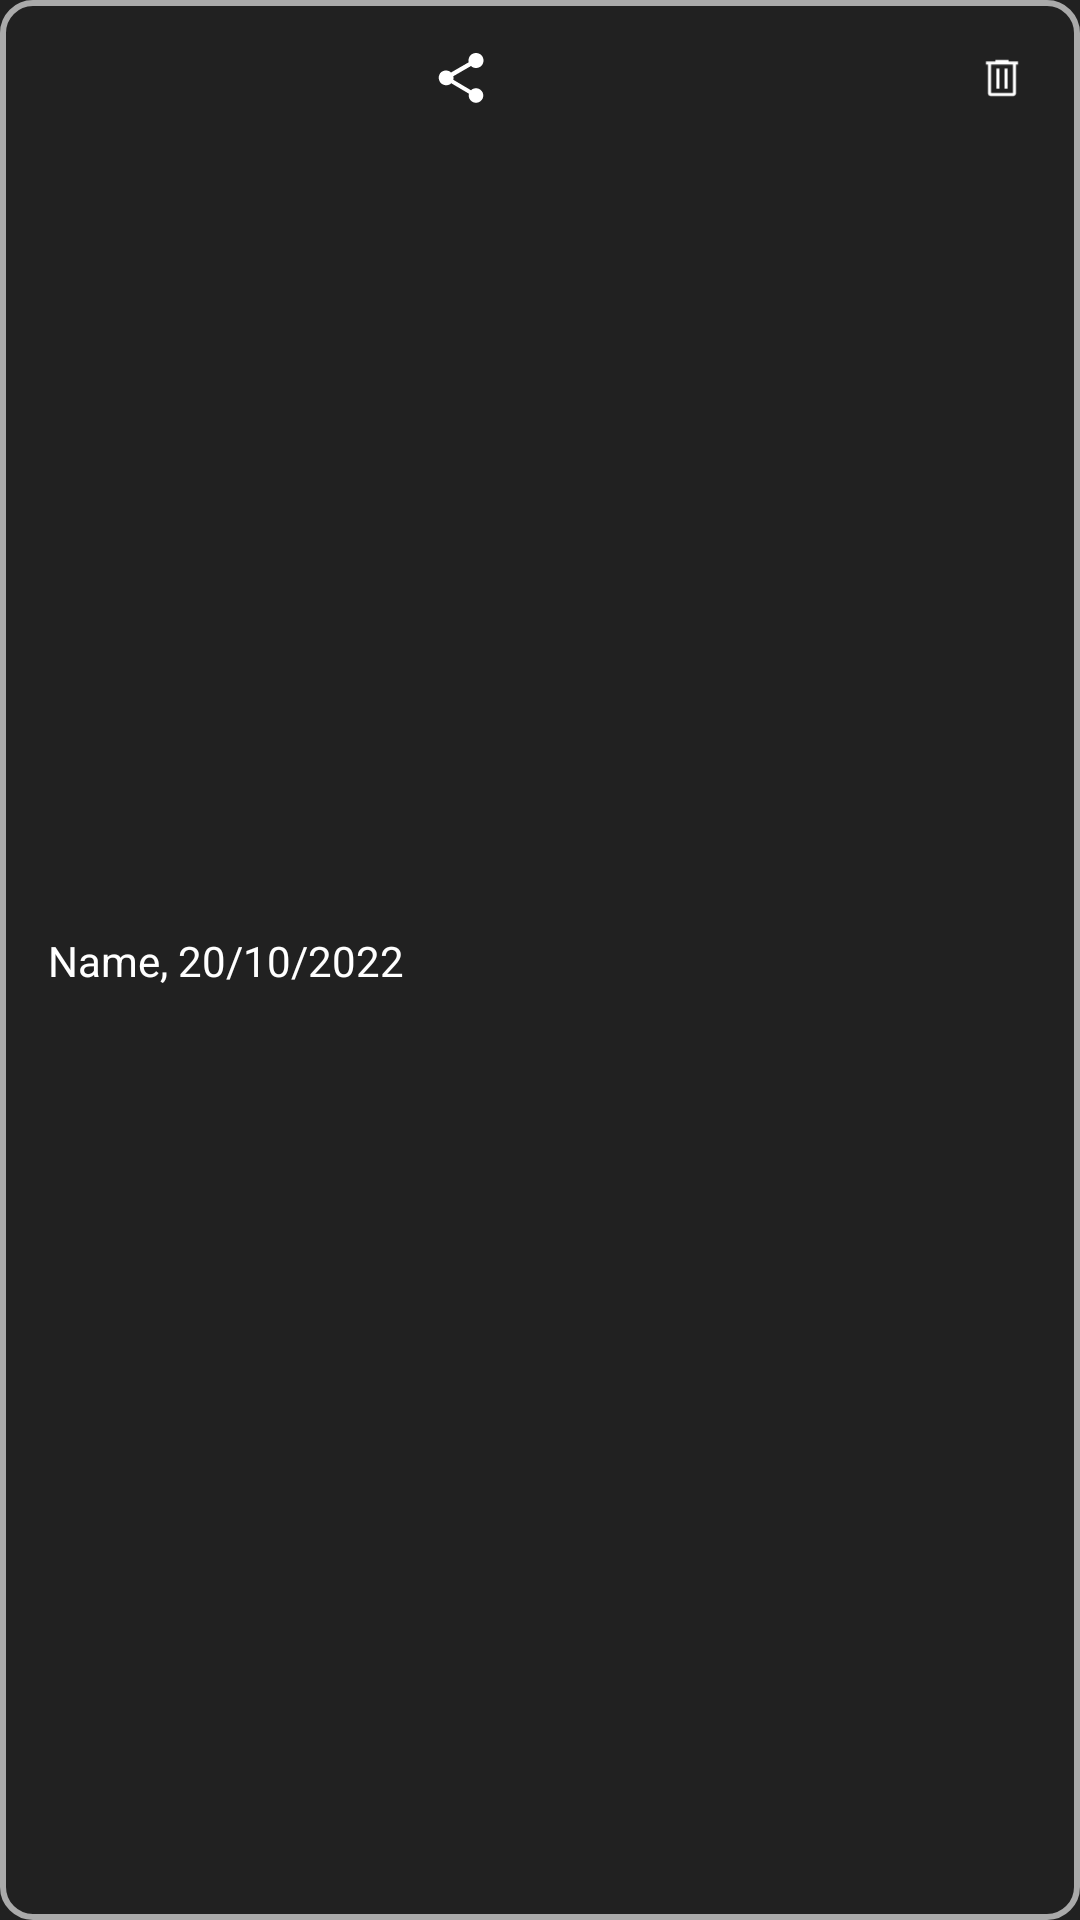

Locate icon controls on the screen. Image size 1080 × 1920, boxes as Rect(x1, y1, x2, y2).
remove: Rect(985, 59, 1019, 97)
